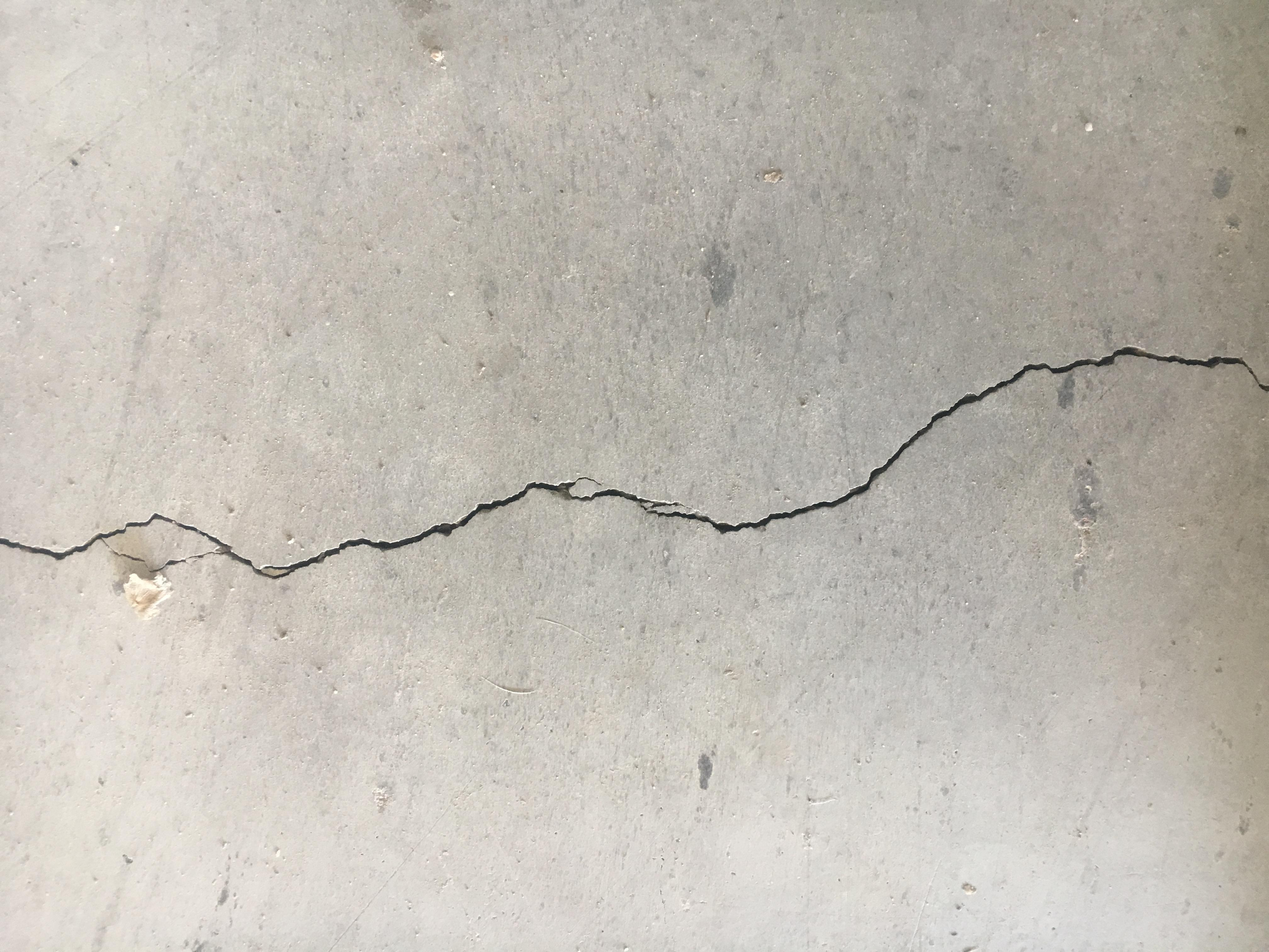Horizontal Settlement Crack: (3, 344, 1266, 584)
